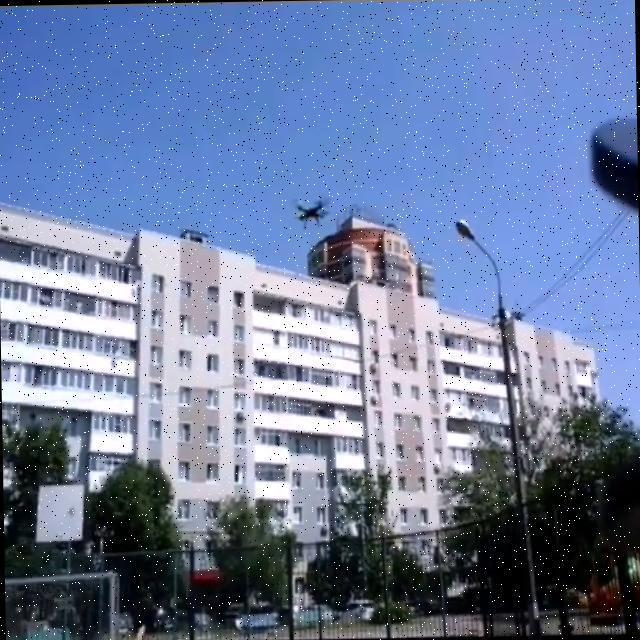Drons: (284, 192, 334, 233)
